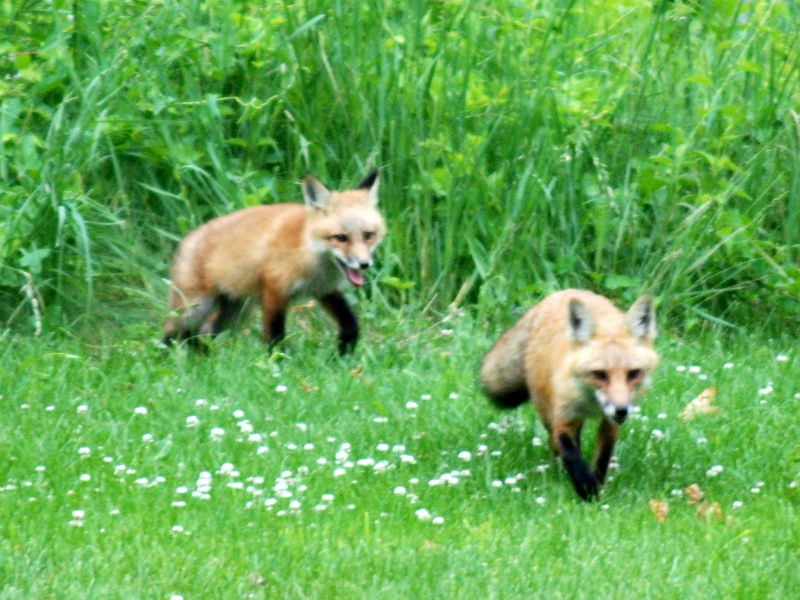fox: (153, 166, 392, 371), (476, 285, 663, 508)
